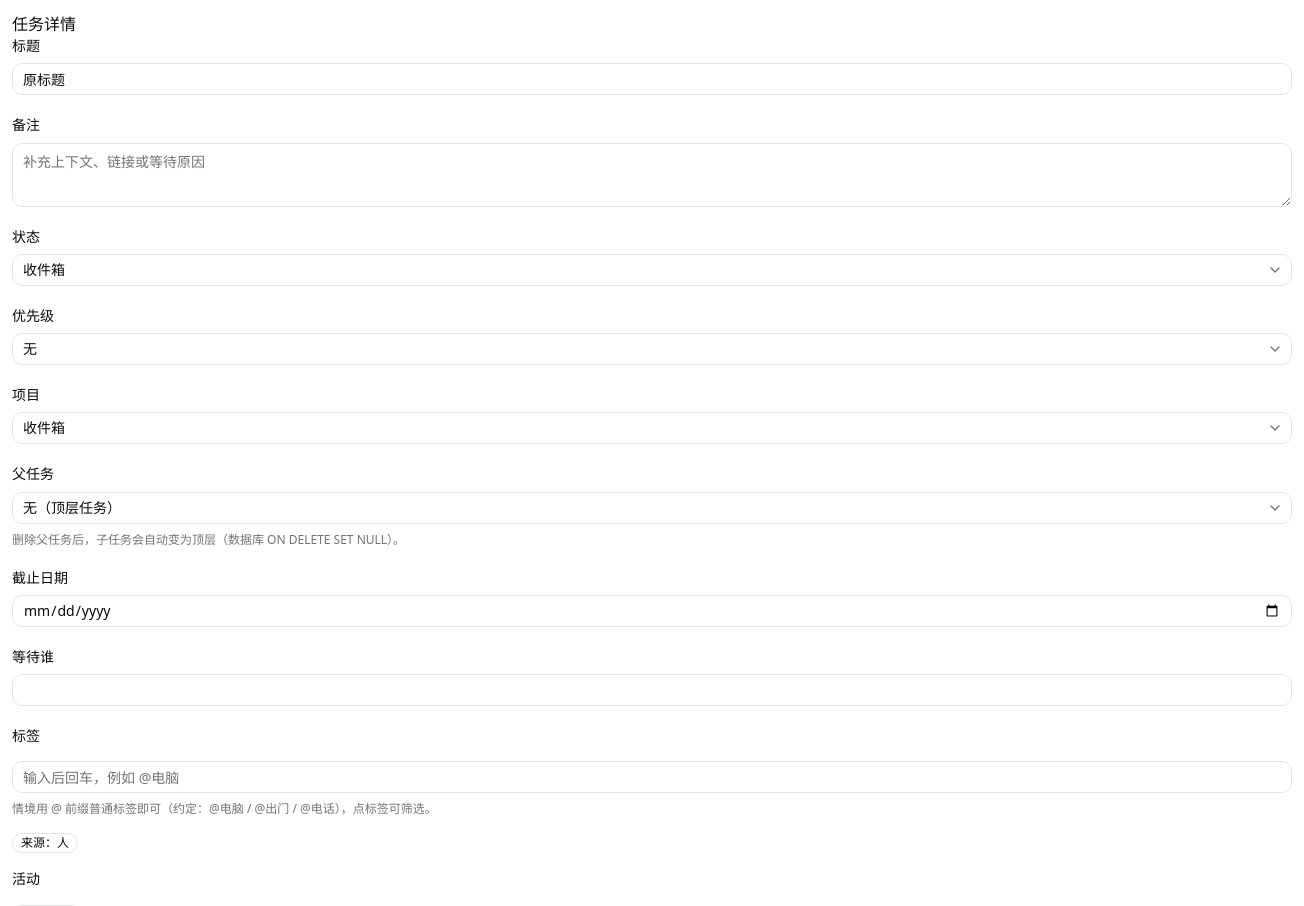
Test: task detail autosave (#115) › 4xx 校验错误：不重试，显示「保存失败」+ 服务端原因（没有重试按钮），beforeunload 不拦；别的字段照常保存
Replace the text in the field labelled "标题" with "太长的标题" at [652, 79], box [12,63,1292,95]
Leave the field labelled "标题", box [12,63,1292,95]
Wait 5000 ms
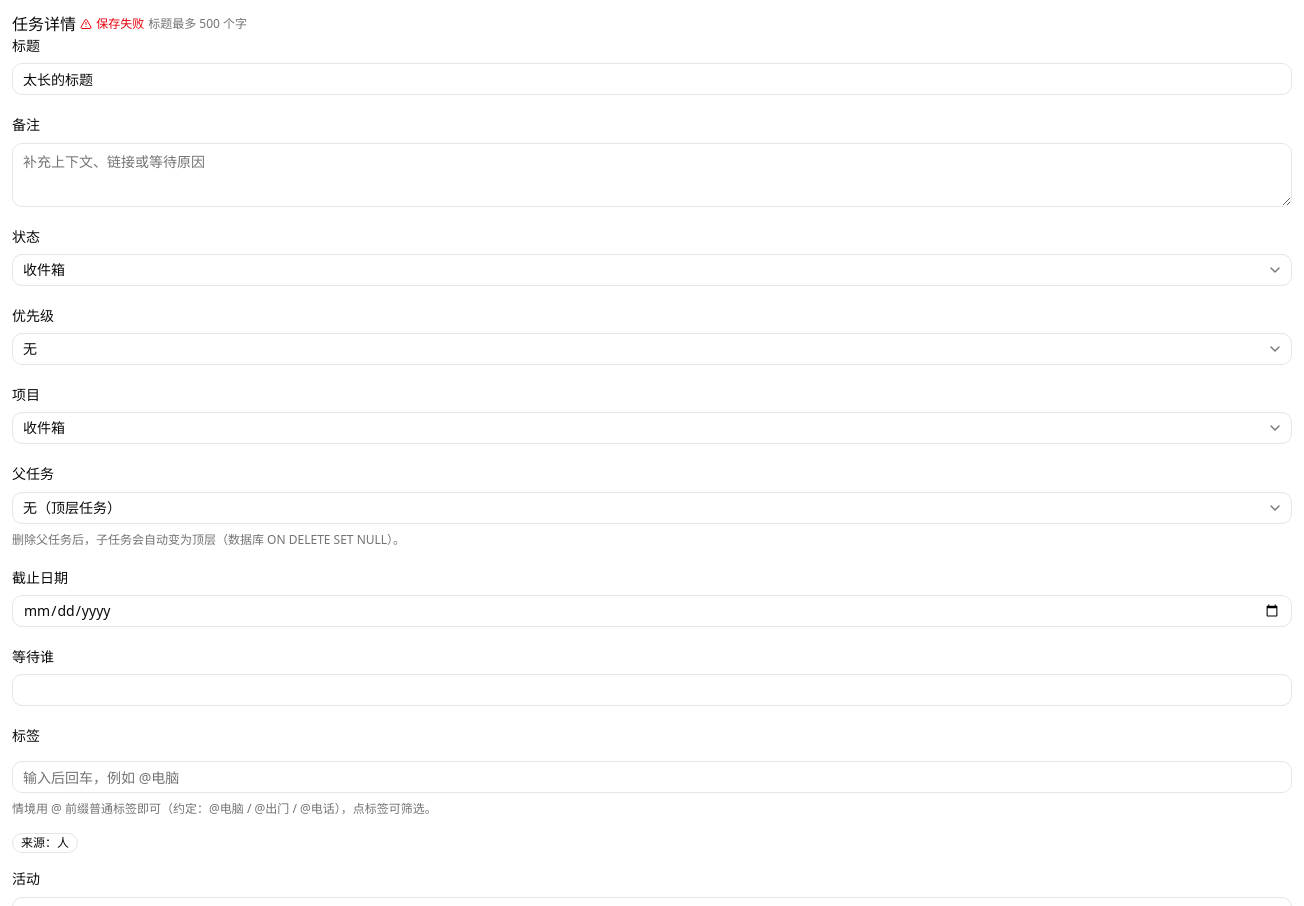
Expected: the message "保存失败 标题最多 500 个字" is shown, [80,16,256,32]
Type "备注照常" into the text box labelled "备注" at [652, 174], box [12,142,1292,206]
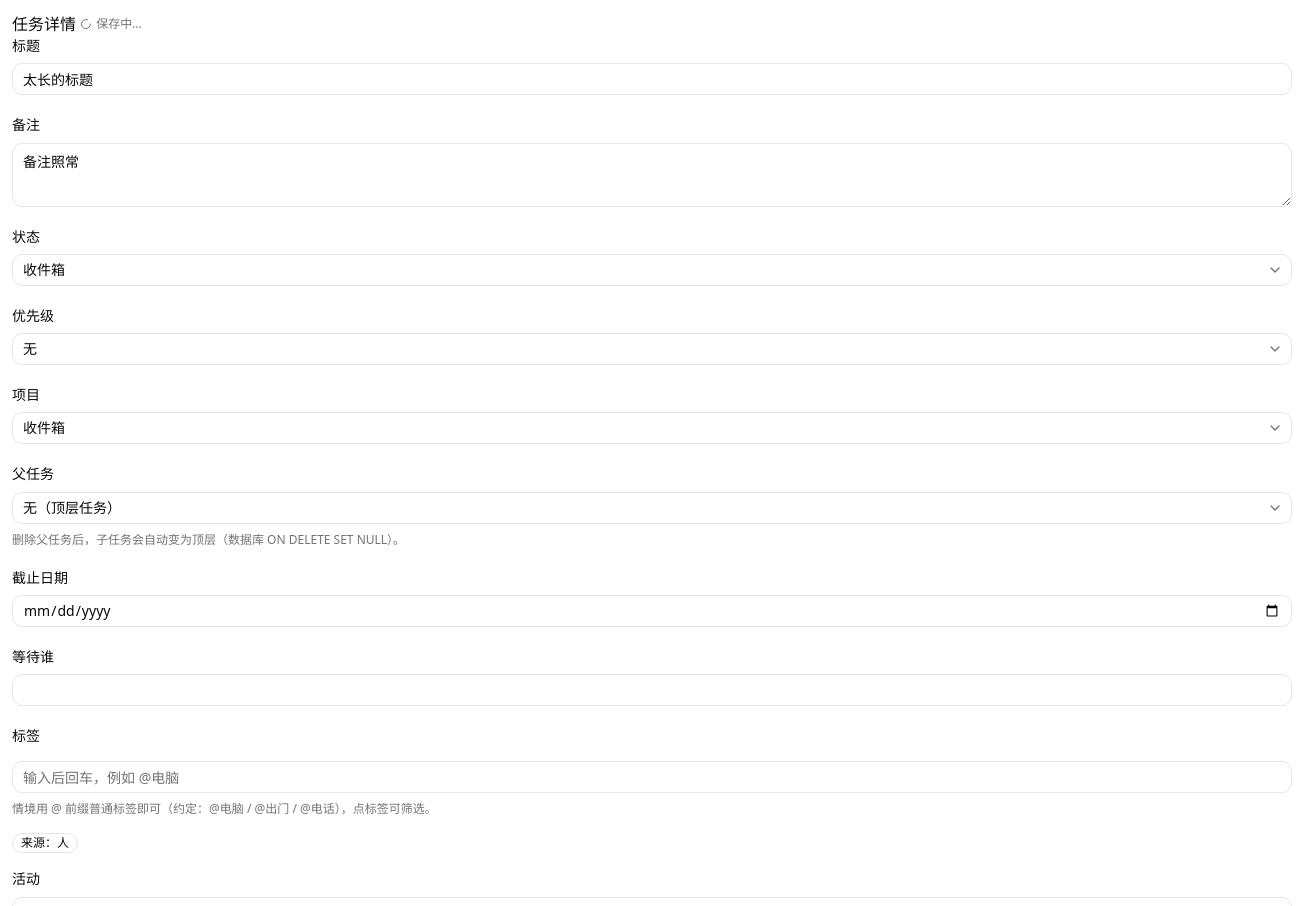
Leave the text box labelled "备注", box [12,142,1292,206]
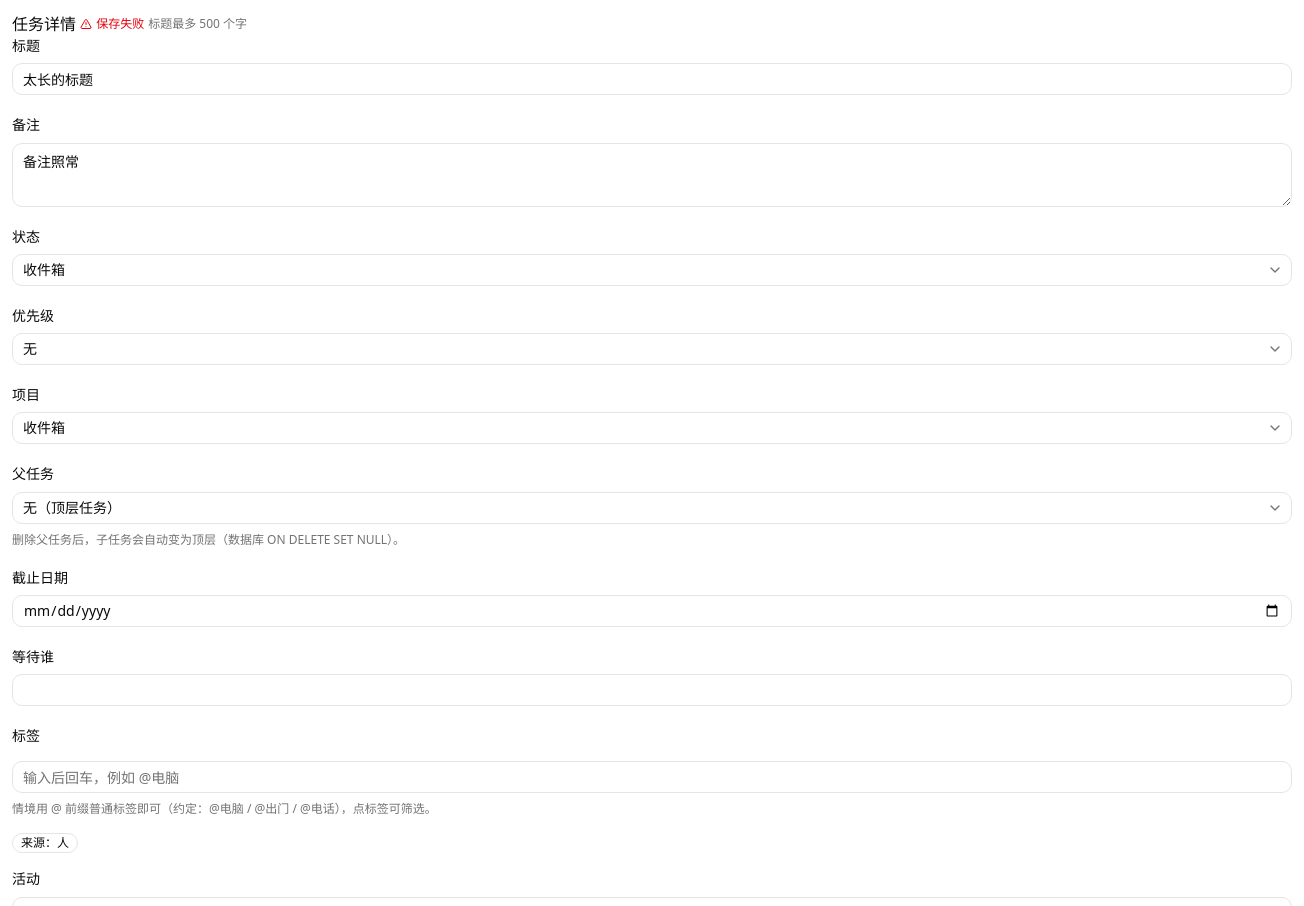
Expected: the message "保存失败 标题最多 500 个字" is shown, [80,16,256,32]
Replace the text in the field labelled "标题" with "原标题" at [652, 79], box [12,63,1292,95]
Leave the field labelled "标题", box [12,63,1292,95]
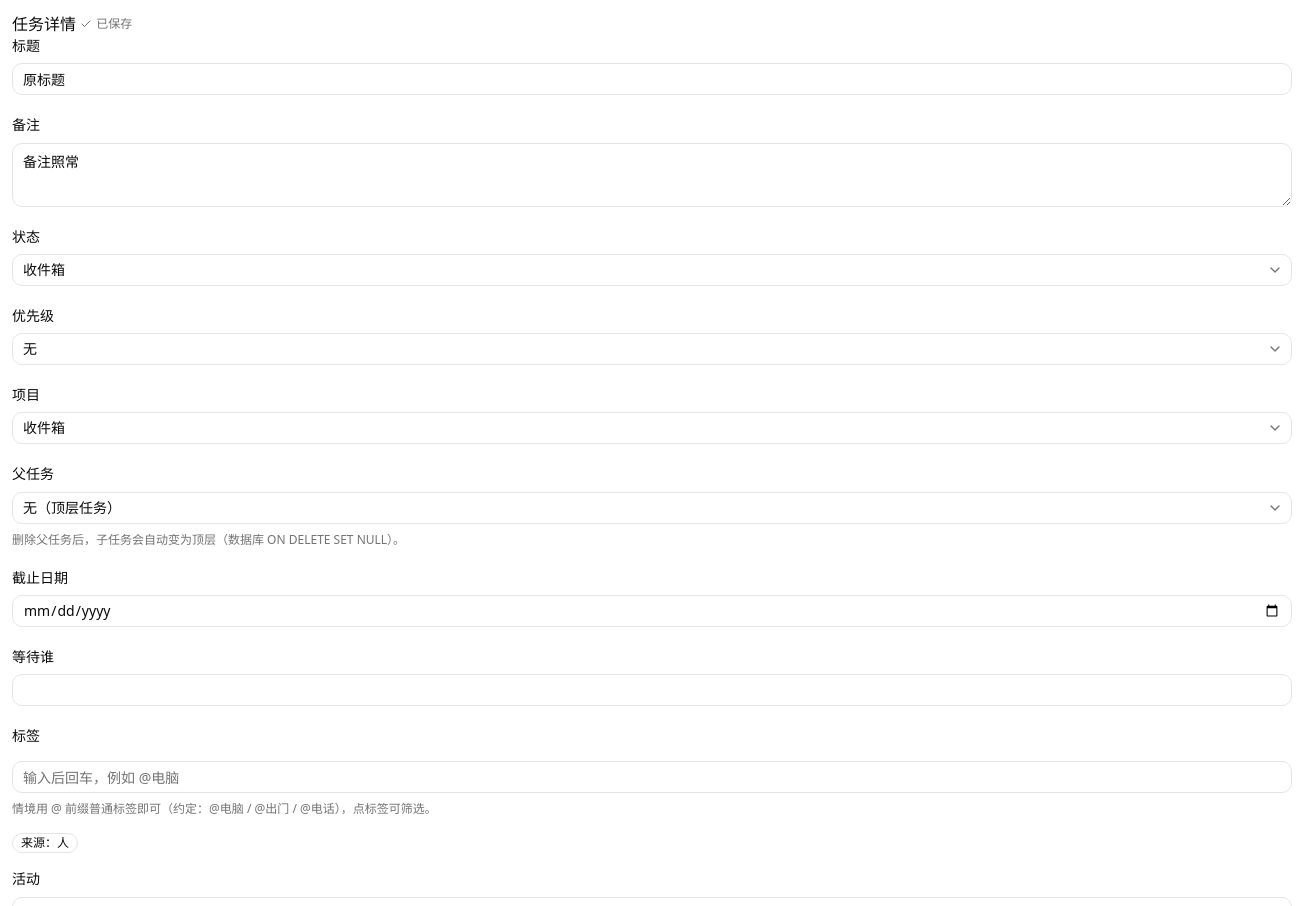
Expected: the text "已保存" is shown, [96,16,132,32]
Replace the text in the field labelled "标题" with "改短了" at [652, 79], box [12,63,1292,95]
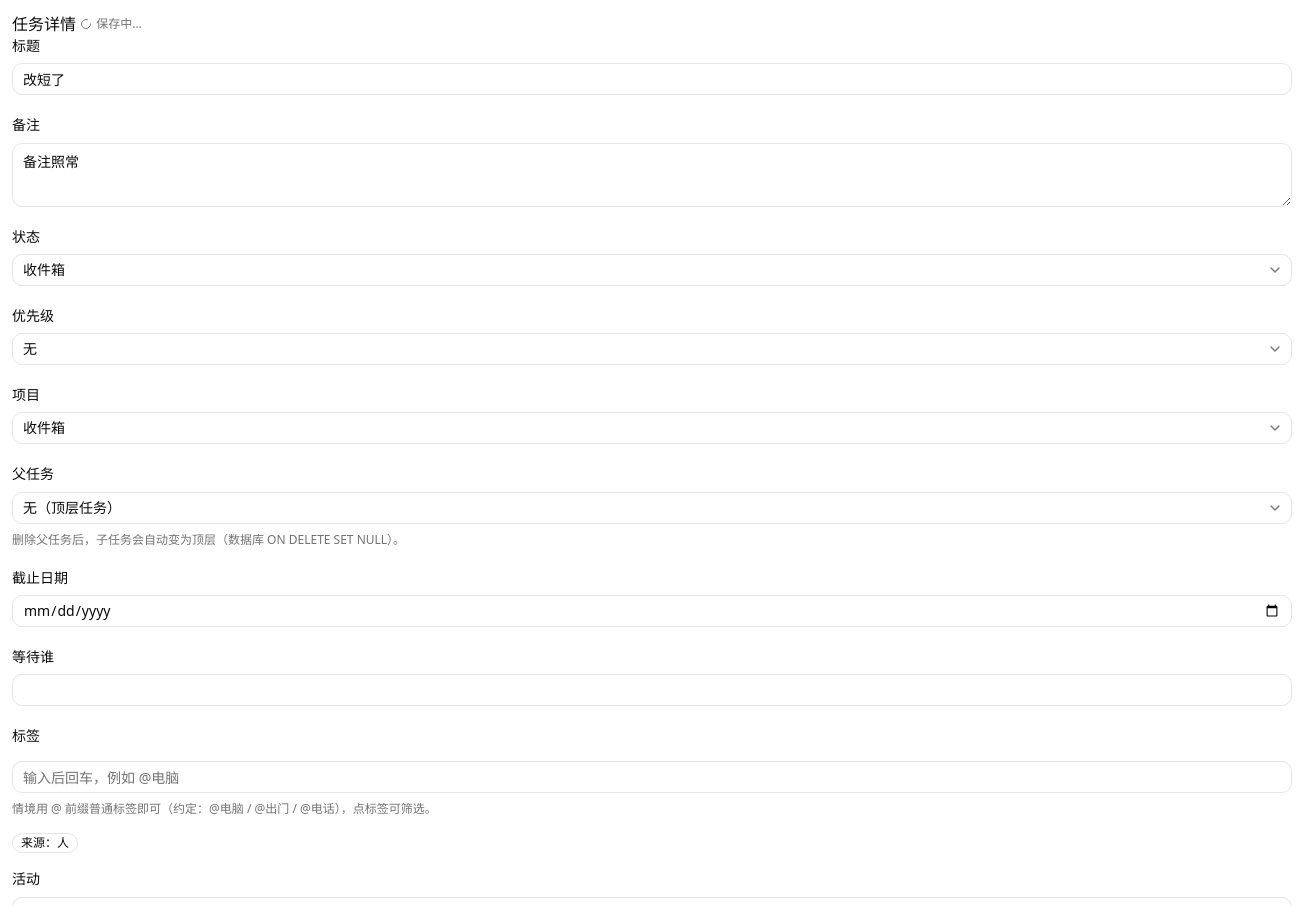
Leave the field labelled "标题", box [12,63,1292,95]
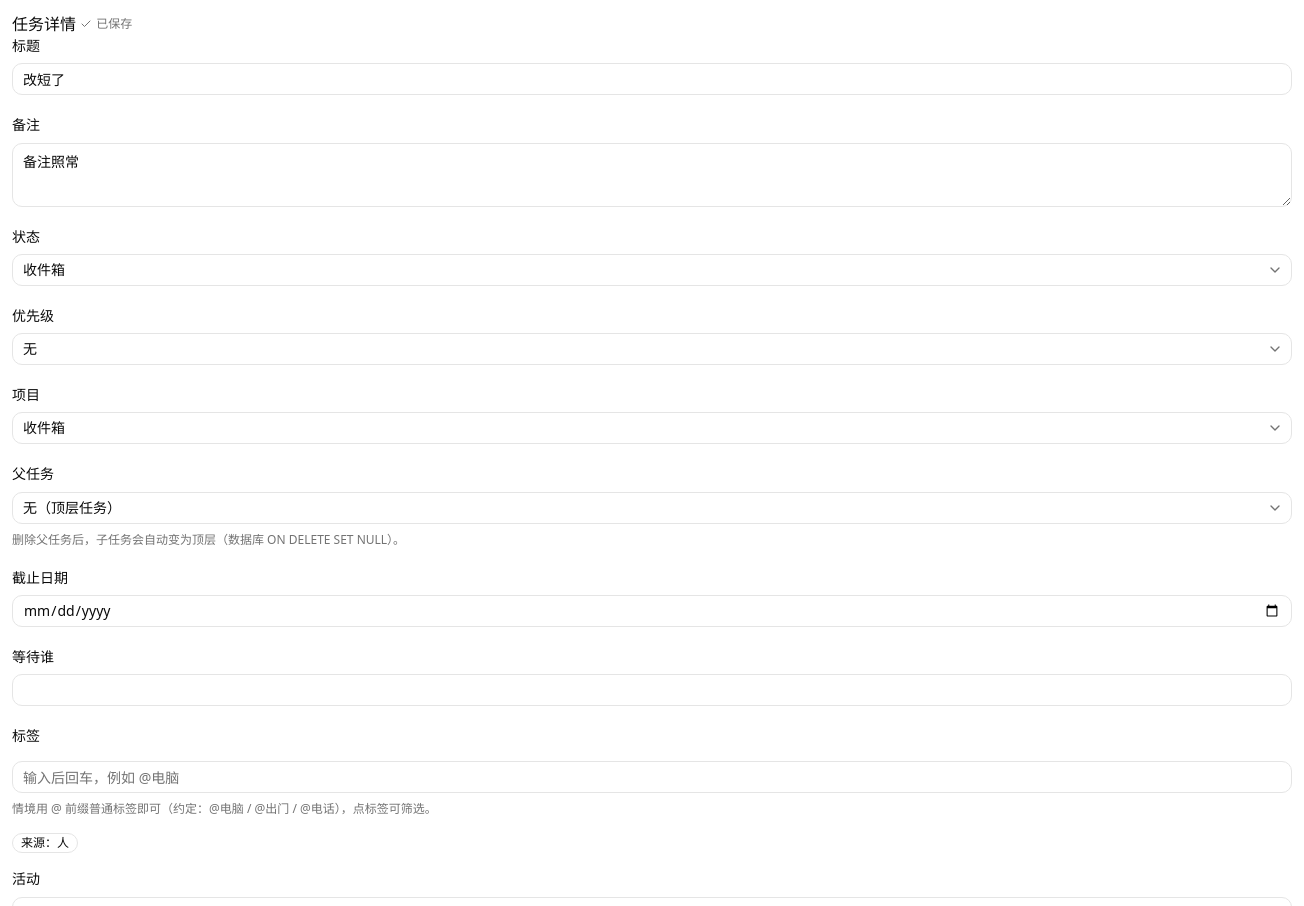
Expected: the text "已保存" is shown, [96,16,132,32]
